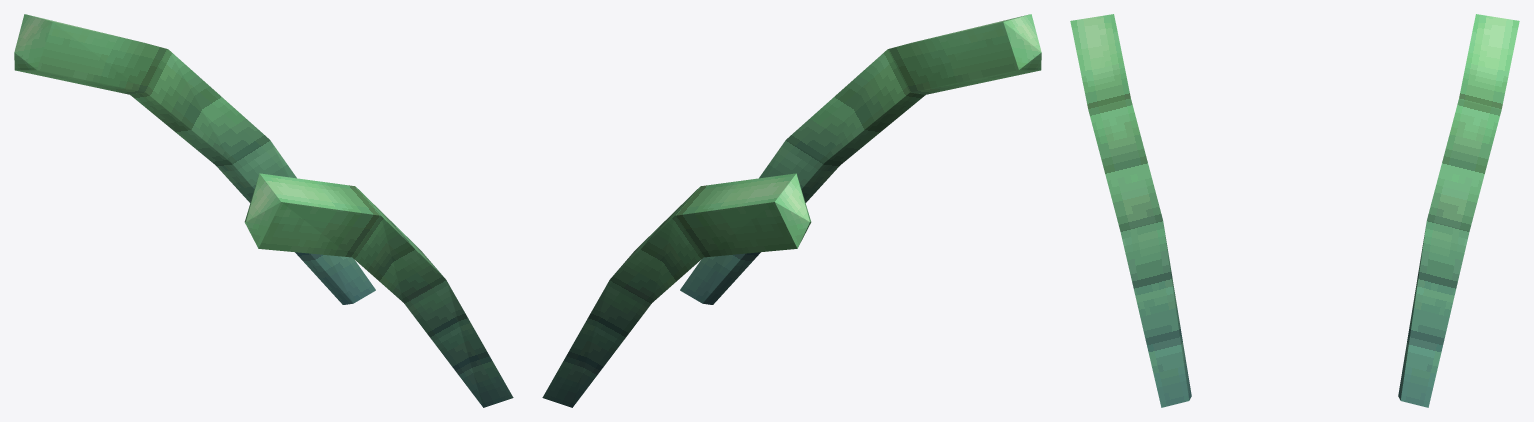
The model's file is Chameleon_bugAntenna.obj.
The picture shows the model from 3 angles, left to right: view 1: azimuth 30°, elevation 25°; view 2: azimuth 150°, elevation 25°; view 3: azimuth 270°, elevation 25°; orthographic projection. The views are drawn at different scales.
Parts seen in each view (by area): view 1: Chameleon_bugAntenna_tri; view 2: Chameleon_bugAntenna_tri; view 3: Chameleon_bugAntenna_tri.
Part boxes in pixels (x1,y1,x2,y2): Chameleon_bugAntenna_tri: [14, 14, 513, 407]; Chameleon_bugAntenna_tri: [542, 14, 1041, 407]; Chameleon_bugAntenna_tri: [1070, 14, 1519, 407].
Size of the model in its own units: 0.0861 by 0.0862 by 0.1247.
1 material, 1 textured.
